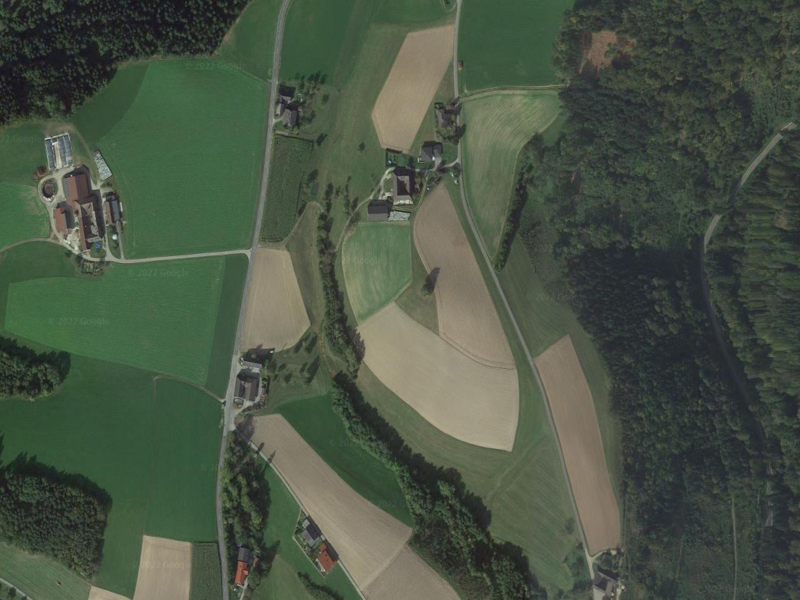field: (534, 335, 622, 556)
